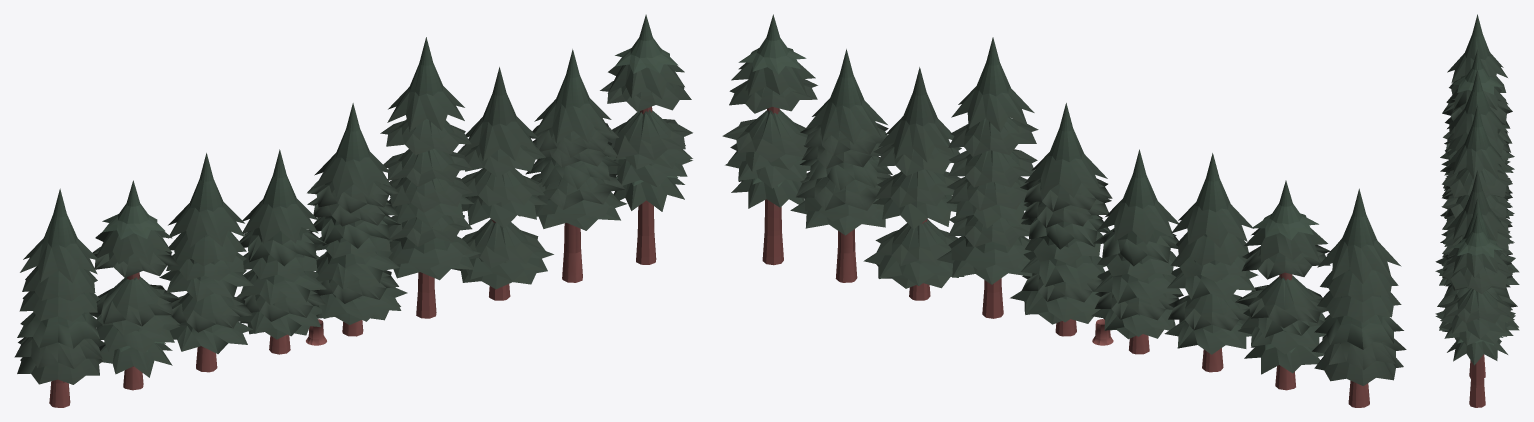
Rendered from pine-trees.glb.
3 views of the same model, side by side, from view 1: azimuth 30°, elevation 25°; view 2: azimuth 150°, elevation 25°; view 3: azimuth 270°, elevation 25° (orthographic). The views are drawn at different scales.
Parts seen in each view (by area): view 1: cylinder.009, cylinder.004, cylinder.002, cylinder.015, cylinder.003, cylinder.006, cylinder, cylinder.007, cylinder.005; view 2: cylinder.009, cylinder.004, cylinder.002, cylinder.003, cylinder, cylinder.015, cylinder.006, cylinder.007, cylinder.005; view 3: cylinder.003, cylinder.009, cylinder.006, cylinder.007, cylinder.002, cylinder.015, cylinder, cylinder.004, cylinder.005.
Part boxes in pixels (bbox=[...]): cylinder.009: bbox=[380, 37, 480, 318]; cylinder.004: bbox=[307, 103, 407, 336]; cylinder.002: bbox=[451, 67, 553, 300]; cylinder.015: bbox=[14, 188, 105, 407]; cylinder.003: bbox=[600, 14, 692, 264]; cylinder.006: bbox=[159, 153, 253, 372]; cylinder: bbox=[518, 49, 627, 282]; cylinder.007: bbox=[89, 180, 180, 390]; cylinder.005: bbox=[236, 149, 327, 354]; cylinder.009: bbox=[937, 37, 1038, 318]; cylinder.004: bbox=[1010, 103, 1112, 336]; cylinder.002: bbox=[863, 67, 964, 300]; cylinder.003: bbox=[722, 14, 817, 265]; cylinder: bbox=[790, 49, 892, 282]; cylinder.015: bbox=[1312, 188, 1406, 407]; cylinder.006: bbox=[1164, 153, 1258, 372]; cylinder.007: bbox=[1235, 180, 1330, 390]; cylinder.005: bbox=[1091, 149, 1183, 354]; cylinder.003: bbox=[1440, 213, 1514, 407]; cylinder.009: bbox=[1435, 105, 1519, 285]; cylinder.006: bbox=[1440, 70, 1514, 218]; cylinder.007: bbox=[1440, 49, 1514, 175]; cylinder.002: bbox=[1435, 170, 1518, 340]; cylinder.015: bbox=[1443, 14, 1512, 151]; cylinder: bbox=[1435, 198, 1519, 378]; cylinder.004: bbox=[1435, 163, 1519, 275]; cylinder.005: bbox=[1440, 161, 1514, 246].
Bounding box in the file's own units: 18.26 × 7.25 × 2.57.
1 material, 1 textured.
